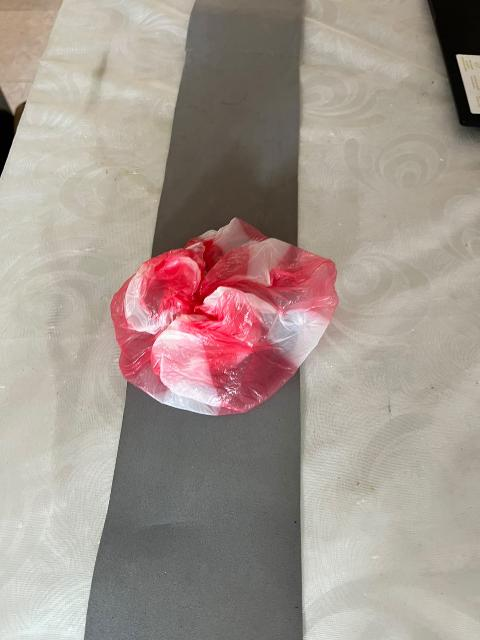LDPE: (77, 190, 397, 526)
